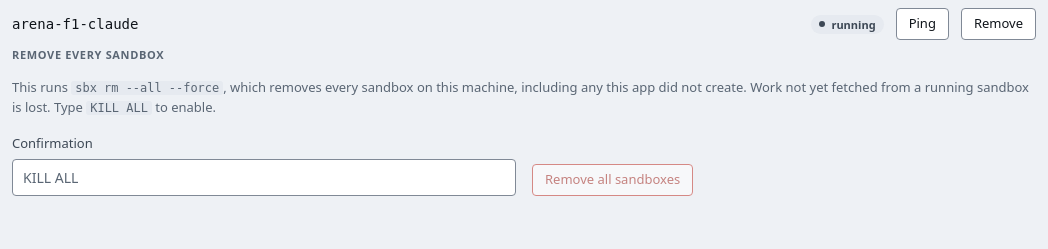
Test case: SandboxControls › distinguishes a container that is up from an agent that has died
Click the button "Ping".
click(922, 24)  # box [896,8,949,40]
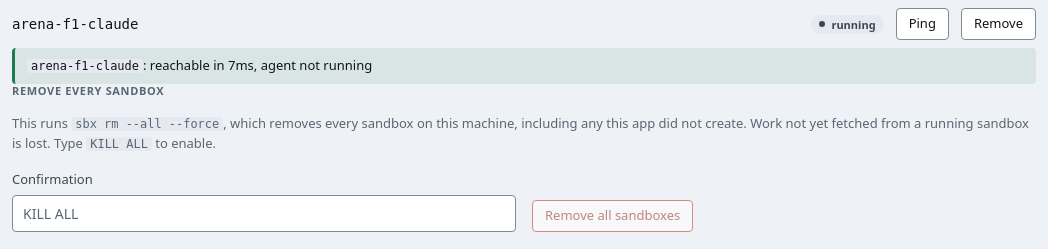
Expected: the message shows "agent not running", [150,56,372,74]
